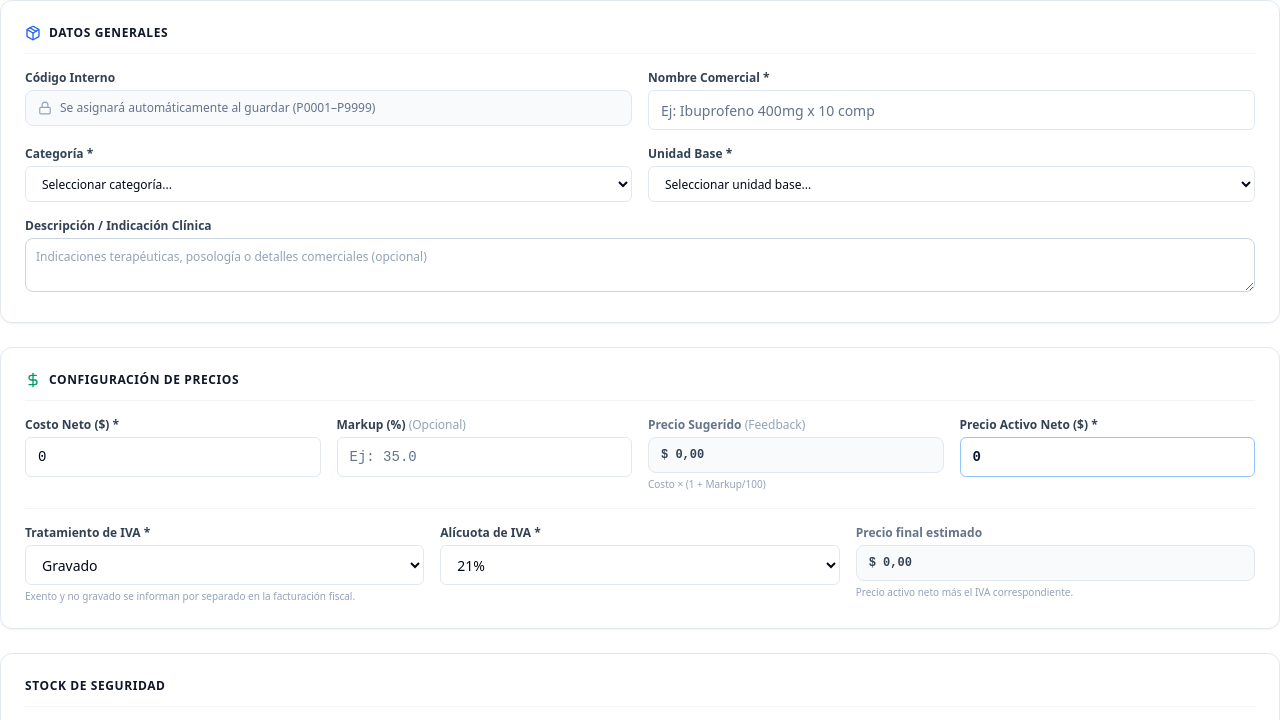
ProductForm › clears and disables the VAT rate for exempt products
Check: the dropdown labelled "Alícuota de IVA *" is enabled, box [440,545,840,585]
Select "Exento" in the dropdown labelled "Tratamiento de IVA *" at (225, 565), box [25,545,424,585]
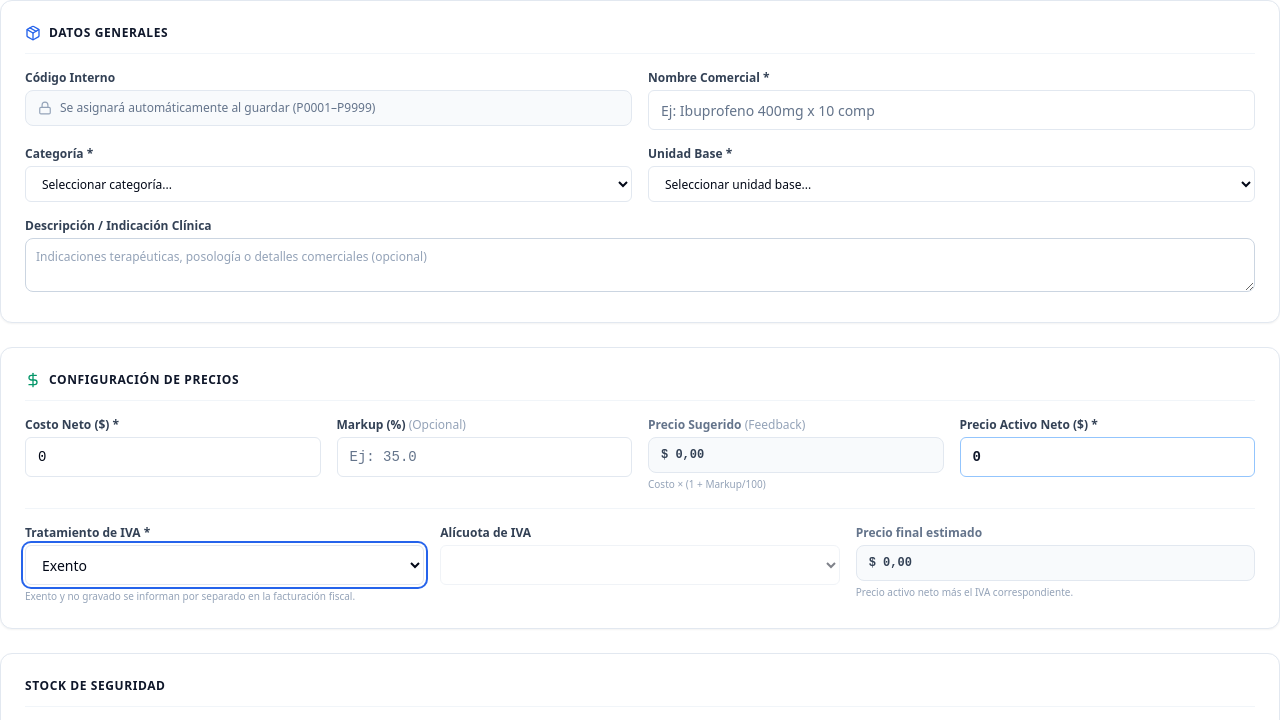
Check: the dropdown labelled "Alícuota de IVA" is disabled, box [440,545,840,585]
